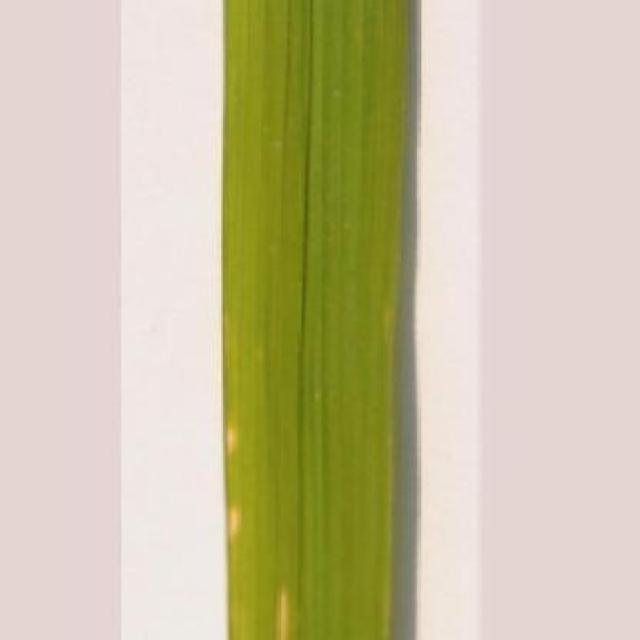Brown_Spot: (211, 0, 412, 640)
